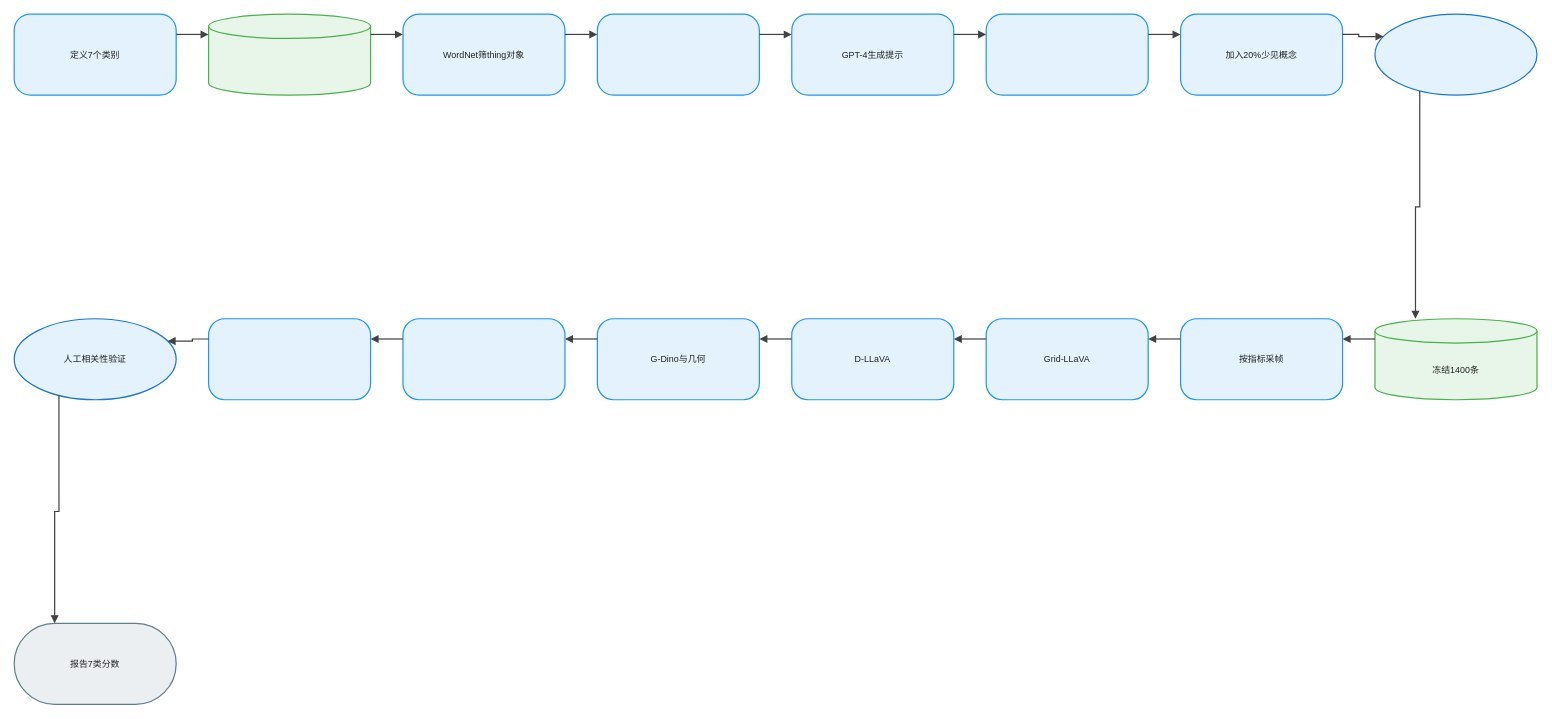
This 1552x719 diagram has some shape labels left out. The shapes that lost their labels are listed below. From the top down, each one's box as (x1, y1, x2, y2) in pixels, then its label:
(208, 13, 371, 95): 分析167万条提示
(596, 13, 760, 95): 收集260 200 80概念
(985, 13, 1148, 95): 要求主动动词
(1374, 13, 1537, 95): 人工核验
(208, 318, 371, 400): DOT跟踪
(402, 318, 565, 400): SAM与深度
